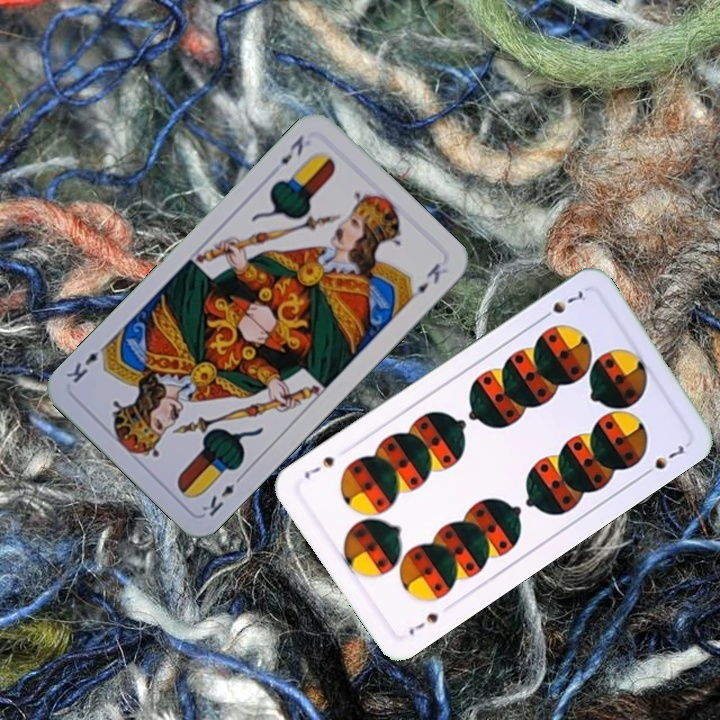EK: (197, 470, 247, 520), (276, 131, 307, 168)
S7: (536, 286, 589, 324), (404, 608, 441, 638)
